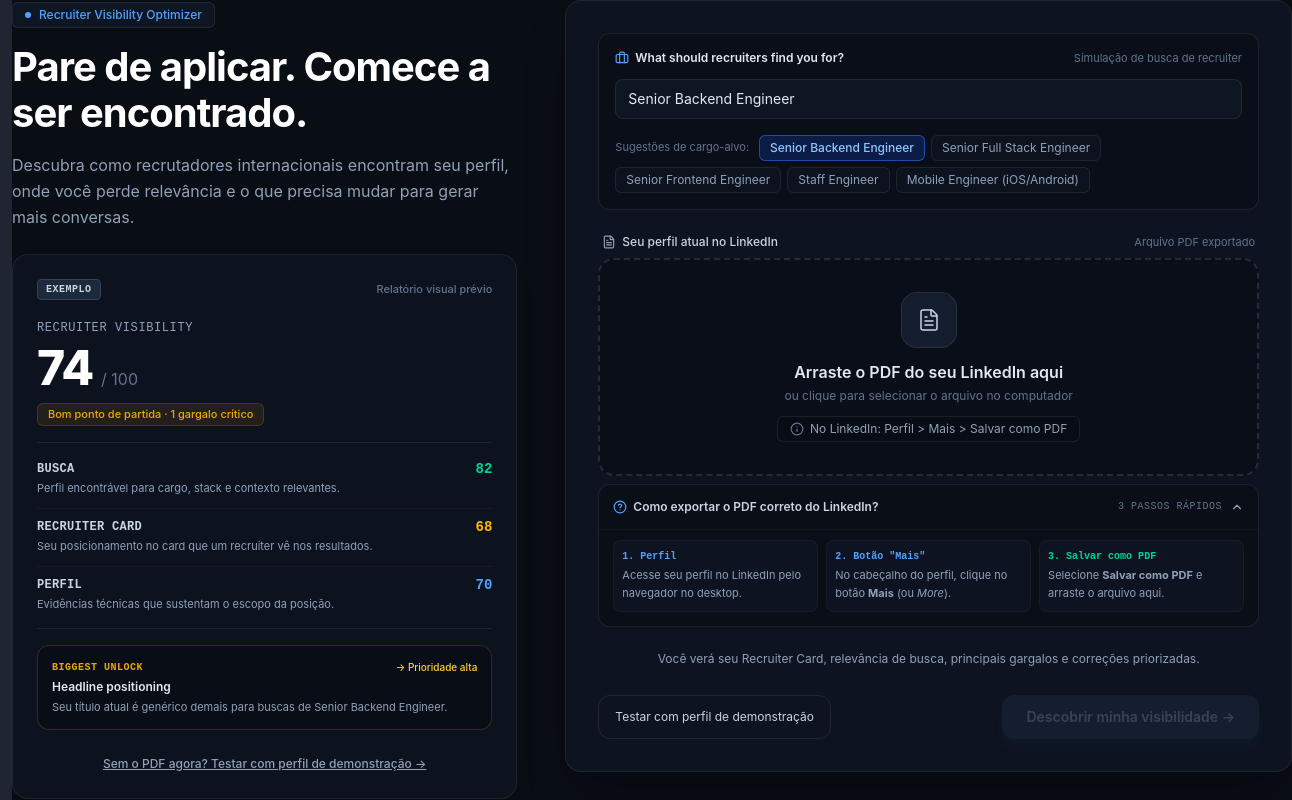
it: FileUploadDropzone Component › updates target role when clicking a quick chip
Click the button "Staff Engineer".
click(838, 180)  # box [787,166,890,192]
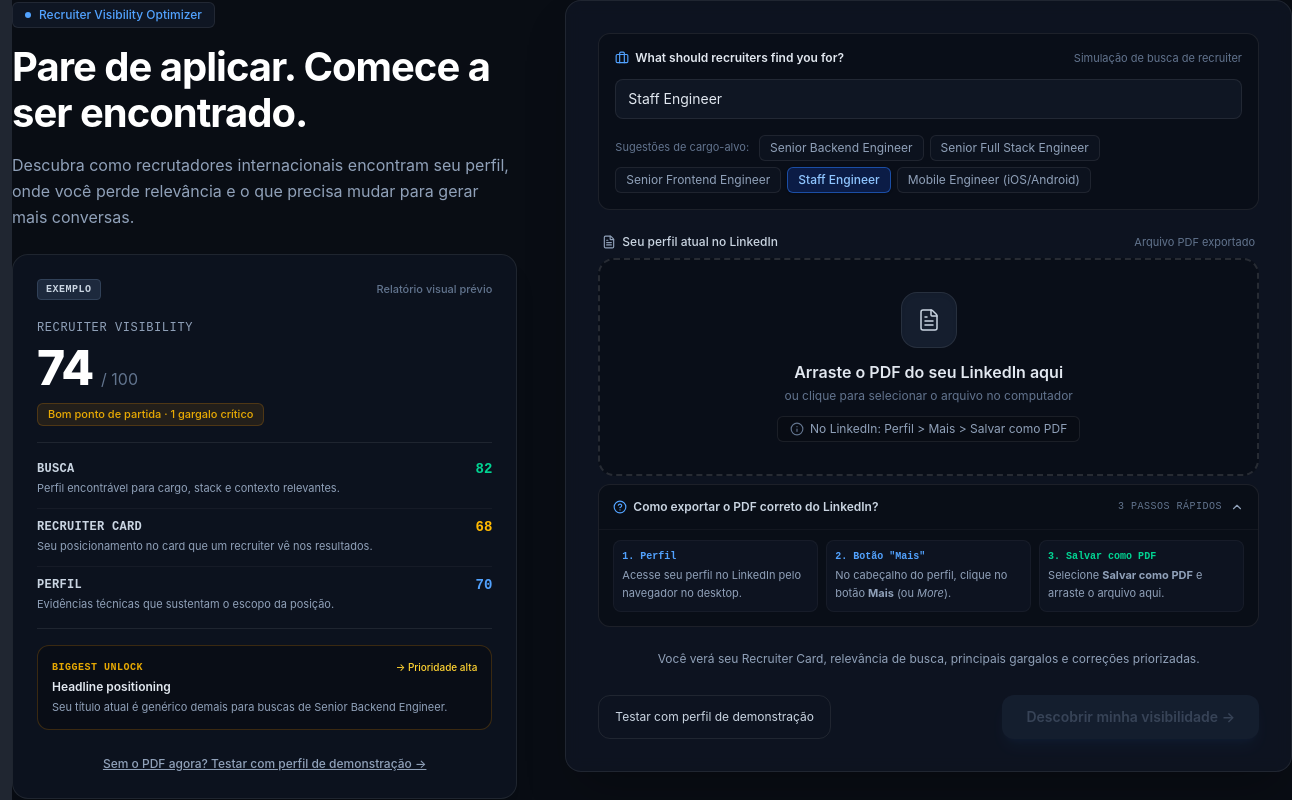
Check: the field labelled "What should recruiters find you for?" holds "Staff Engineer", box [615,78,1242,118]
